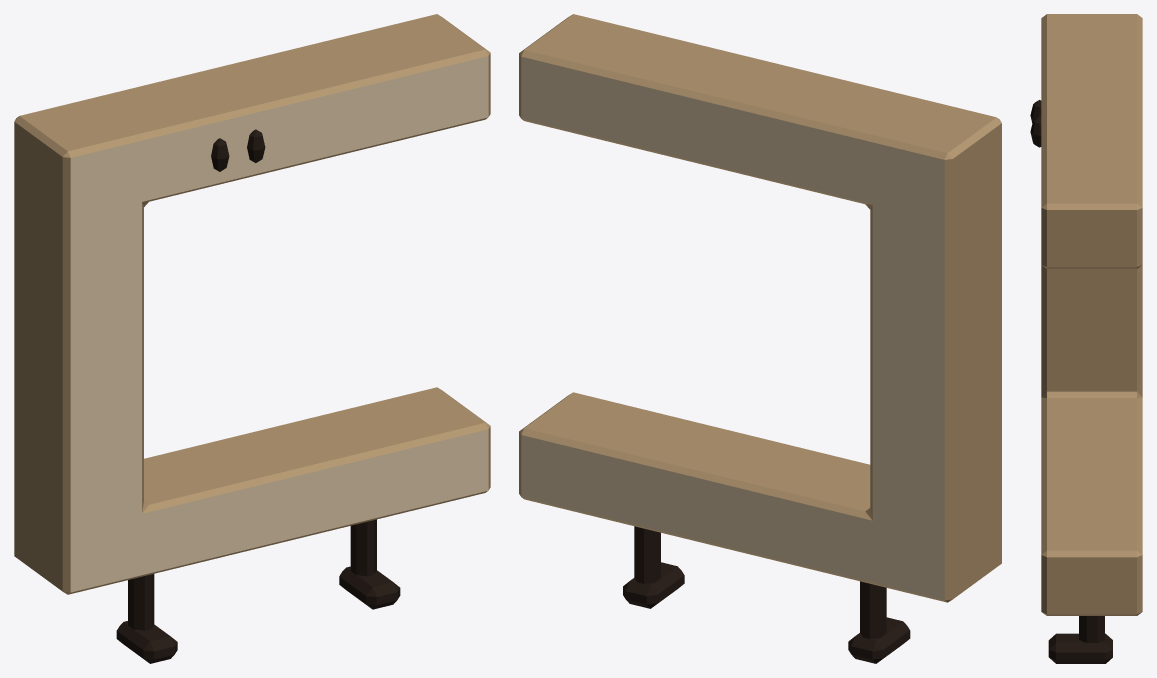
Rendered from digeut.glb.
3 renders of one model, left to right at view 1: azimuth 30°, elevation 25°; view 2: azimuth 150°, elevation 25°; view 3: azimuth 270°, elevation 25°, orthographic. The views are drawn at different scales.
Visible parts, largest first — view 1: Glyph, Leg_L, Leg_R; view 2: Glyph, Leg_R, Leg_L; view 3: Glyph, Leg_R, Eye_R.
Part boxes in pixels (x1,y1,x2,y2): Glyph: (14, 14, 490, 594); Leg_L: (116, 574, 177, 663); Leg_R: (339, 519, 400, 609); Glyph: (519, 14, 1001, 602); Leg_R: (623, 526, 684, 608); Leg_L: (848, 581, 910, 663); Glyph: (1041, 14, 1142, 615); Leg_R: (1048, 616, 1112, 663); Eye_R: (1030, 116, 1041, 147).
Bounding box in the file's own units: 0.5 × 0.6 × 0.122.
